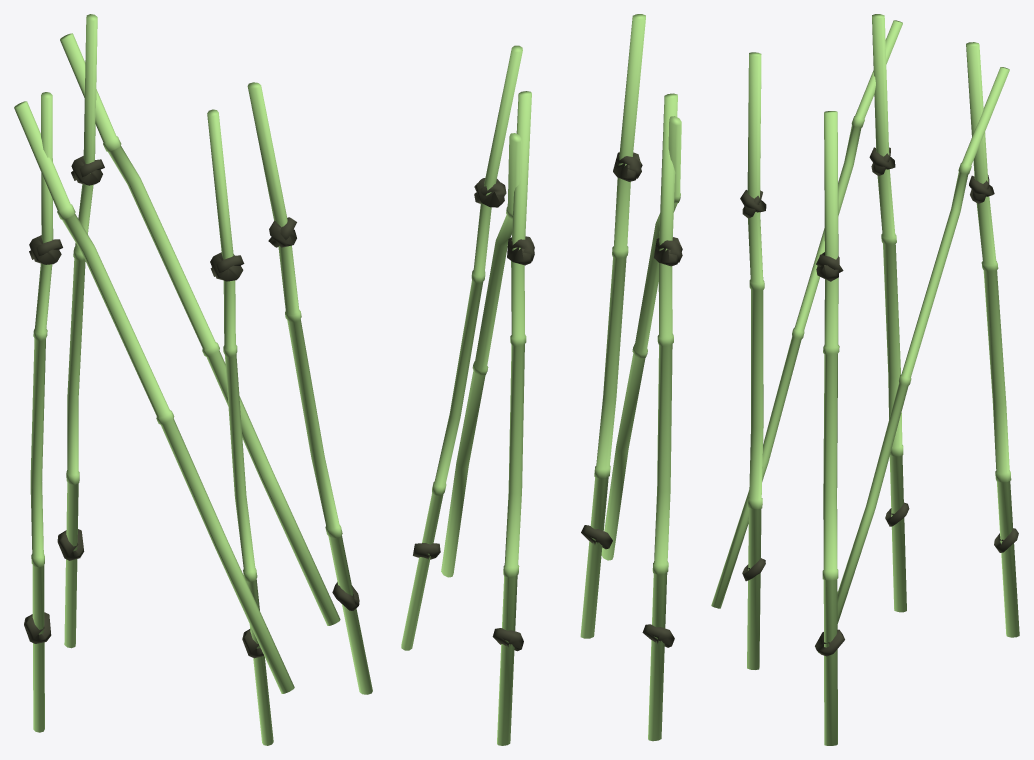
The model's file is échafaudage bambou petit.fbx.
3 renders of one model, left to right at view 1: azimuth 30°, elevation 25°; view 2: azimuth 150°, elevation 25°; view 3: azimuth 270°, elevation 25°, orthographic. The views are drawn at different scales.
Visible parts, largest first — view 1: MSH_echafaudage_bambou_02, MSH_echafaudage_bambou_03__1_, MSH_echafaudage_bambou_02__1_, MSH_echafaudage_bambou_03__2_, MSH_echafaudage_bambou_03, MSH_echafaudage_bambou_03__3_; view 2: MSH_echafaudage_bambou_03, MSH_echafaudage_bambou_03__2_, MSH_echafaudage_bambou_03__3_, MSH_echafaudage_bambou_03__1_, MSH_echafaudage_bambou_02__1_, MSH_echafaudage_bambou_02; view 3: MSH_echafaudage_bambou_03__1_, MSH_echafaudage_bambou_03__3_, MSH_echafaudage_bambou_03, MSH_echafaudage_bambou_03__2_, MSH_echafaudage_bambou_02__1_, MSH_echafaudage_bambou_02.
Boxes of the visible parts, box(x1,y1,x2,y2) form: MSH_echafaudage_bambou_02: box(14, 101, 294, 693); MSH_echafaudage_bambou_03__1_: box(247, 82, 372, 694); MSH_echafaudage_bambou_02__1_: box(60, 33, 340, 625); MSH_echafaudage_bambou_03__2_: box(24, 92, 62, 732); MSH_echafaudage_bambou_03: box(57, 14, 104, 648); MSH_echafaudage_bambou_03__3_: box(207, 109, 273, 745); MSH_echafaudage_bambou_03: box(492, 91, 534, 745); MSH_echafaudage_bambou_03__2_: box(642, 93, 682, 741); MSH_echafaudage_bambou_03__3_: box(580, 14, 645, 638); MSH_echafaudage_bambou_03__1_: box(401, 45, 522, 650); MSH_echafaudage_bambou_02__1_: box(441, 133, 521, 577); MSH_echafaudage_bambou_02: box(601, 116, 681, 560); MSH_echafaudage_bambou_03__1_: box(815, 111, 844, 745); MSH_echafaudage_bambou_03__3_: box(740, 52, 766, 669); MSH_echafaudage_bambou_03: box(966, 42, 1019, 637); MSH_echafaudage_bambou_03__2_: box(869, 14, 909, 612); MSH_echafaudage_bambou_02__1_: box(818, 67, 1009, 653); MSH_echafaudage_bambou_02: box(711, 20, 902, 608).
Size of the model in its own units: 4.22 by 8.42 by 3.84.
